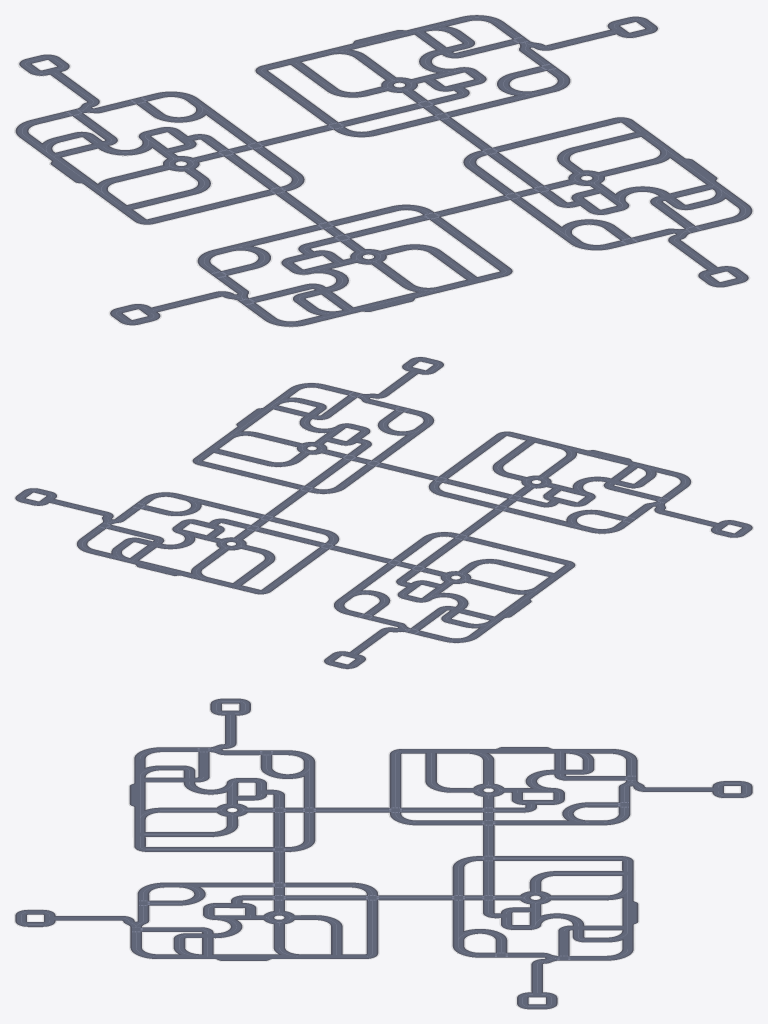
File: 4blocksV3.glb
The picture shows the model from 3 angles, top to bottom: view 1: azimuth 30°, elevation 25°; view 2: azimuth 150°, elevation 25°; view 3: azimuth 270°, elevation 25°; orthographic projection. The views are drawn at different scales.
Visible parts, largest first — view 1: road-straight150, road-straight60, road-straight104, road-straight13, road-roundabout3, road-roundabout4, road-roundabout, road-roundabout5, road-straight18, road-straight107, road-straight64, road-straight156 (+6 smaller); view 2: road-straight60, road-straight150, road-straight13, road-straight104; view 3: road-straight13, road-straight104, road-straight150, road-straight60, road-straight64, road-straight156, road-roundabout, road-roundabout5, road-roundabout3, road-roundabout4.
Part boxes in pixels (box(x1,y1,x2,y2)): road-straight150: box(493, 117, 620, 152); road-straight60: box(147, 189, 274, 224); road-straight104: box(429, 217, 511, 271); road-straight13: box(256, 70, 338, 124); road-roundabout3: box(157, 153, 204, 174); road-roundabout4: box(344, 246, 392, 266); road-roundabout: box(375, 75, 423, 95); road-roundabout5: box(562, 167, 609, 188); road-straight18: box(339, 103, 422, 126); road-straight107: box(345, 215, 428, 238); road-straight64: box(223, 153, 280, 189); road-straight156: box(487, 152, 544, 187); road-straight60: box(464, 536, 569, 564); road-straight150: box(198, 460, 303, 489); road-straight13: box(261, 547, 329, 592); road-straight104: box(438, 433, 506, 478); road-straight13: box(495, 855, 621, 861); road-straight104: box(146, 846, 272, 852); road-straight150: box(365, 900, 379, 953); road-straight60: box(388, 754, 402, 807); road-straight64: box(402, 807, 482, 813); road-straight156: box(285, 894, 365, 900); road-roundabout: box(514, 888, 557, 906); road-roundabout5: box(257, 908, 300, 926); road-roundabout3: box(467, 781, 510, 799); road-roundabout4: box(210, 801, 253, 819).
Size of the model in its own units: 358 by 0.02 by 359.
14 materials, 14 textured.
